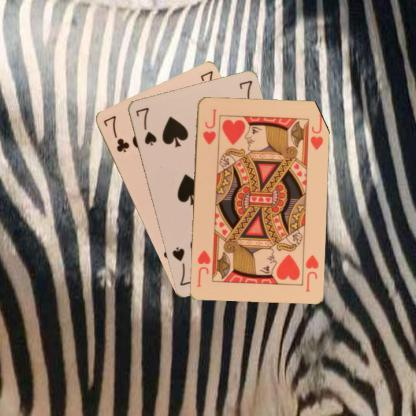7c: (101, 112, 130, 154)
7s: (133, 104, 158, 146)
Jh: (200, 106, 218, 146), (302, 252, 320, 292)
